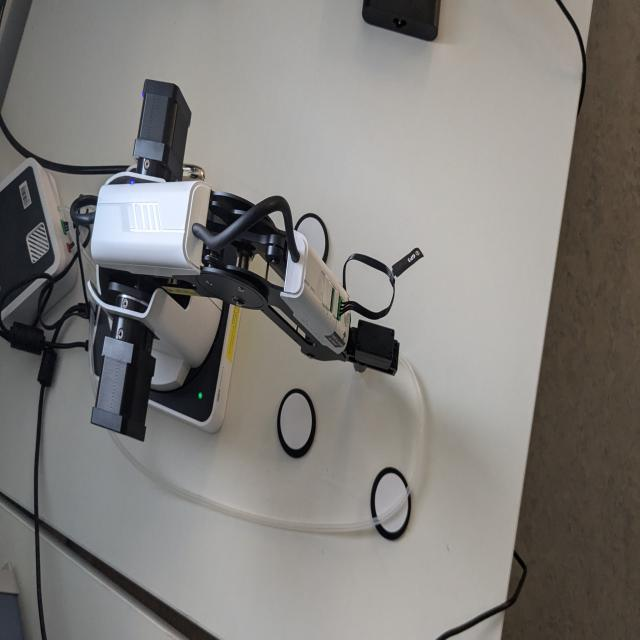Robot-end-effector-HF8z: (347, 318, 402, 382)
